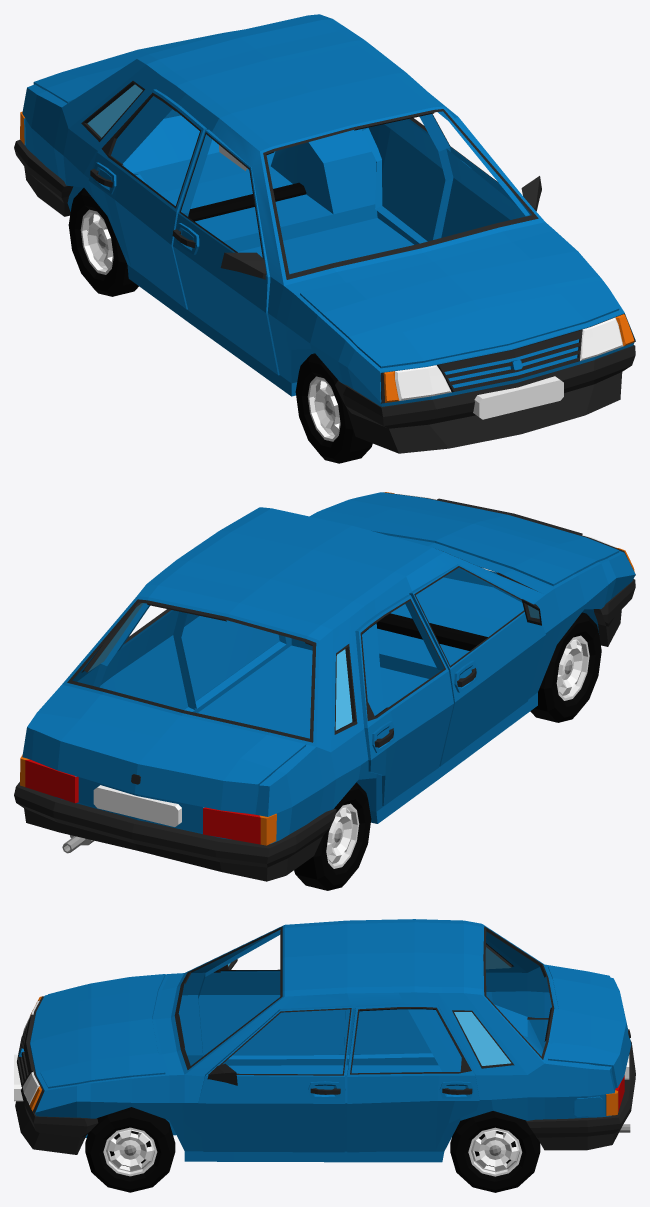
File: car_windowless.fbx
3 views of the same model, one above another, from view 1: azimuth 30°, elevation 25°; view 2: azimuth 150°, elevation 25°; view 3: azimuth 270°, elevation 25° (orthographic). The views are drawn at different scales.
Parts seen in each view (by area): view 1: lada_21099, Front_Right_Wheel.002, Rear_Right_Wheel.001; view 2: lada_21099, Front_Right_Wheel.002, Rear_Right_Wheel.001; view 3: lada_21099, Front_Left_Wheel.002, Rear_Left_Wheel.001.
Boxes of the visible parts, left/top/right/bottom form: lada_21099: left=14, top=14, right=635, bottom=453; Front_Right_Wheel.002: left=295, top=353, right=372, bottom=463; Rear_Right_Wheel.001: left=68, top=188, right=138, bottom=296; lada_21099: left=14, top=492, right=635, bottom=881; Front_Right_Wheel.002: left=530, top=612, right=601, bottom=722; Rear_Right_Wheel.001: left=294, top=782, right=371, bottom=890; lada_21099: left=14, top=919, right=635, bottom=1162; Front_Left_Wheel.002: left=85, top=1107, right=175, bottom=1192; Rear_Left_Wheel.001: left=450, top=1111, right=540, bottom=1192.
Bounding box in the file's own units: 206 × 148 × 432.
